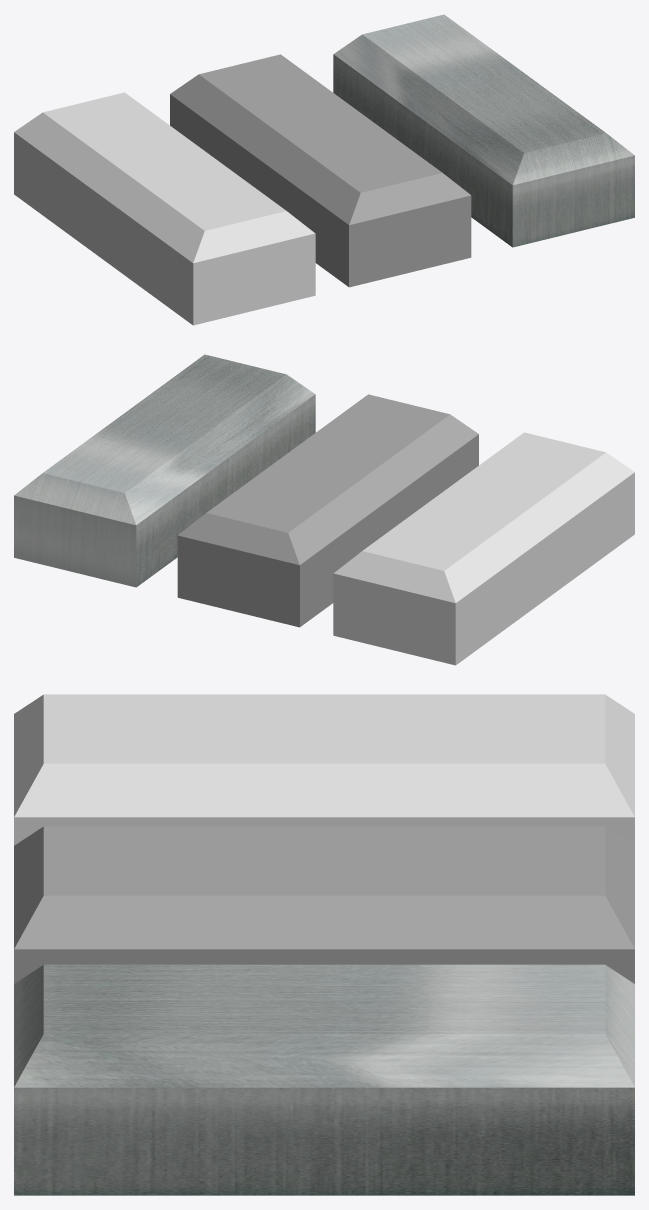
Rendered from bars.fbx.
3 views of the same model, one above another, from view 1: azimuth 30°, elevation 25°; view 2: azimuth 150°, elevation 25°; view 3: azimuth 270°, elevation 25° (orthographic). The views are drawn at different scales.
Parts seen in each view (by area): view 1: silver, aluminiyam, zinc; view 2: silver, aluminiyam, zinc; view 3: aluminiyam, zinc, silver.
Boxes of the visible parts, <box> form: silver: <box>14,92,315,325</box>; aluminiyam: <box>333,14,634,247</box>; zinc: <box>170,54,471,287</box>; silver: <box>333,432,634,665</box>; aluminiyam: <box>14,354,315,587</box>; zinc: <box>177,394,478,627</box>; aluminiyam: <box>14,964,634,1195</box>; zinc: <box>14,826,634,983</box>; silver: <box>14,694,634,845</box>.
Bounding box in the file's own units: 105 × 18.87 × 73.52.
Materials: 3 (1 with a texture image).
